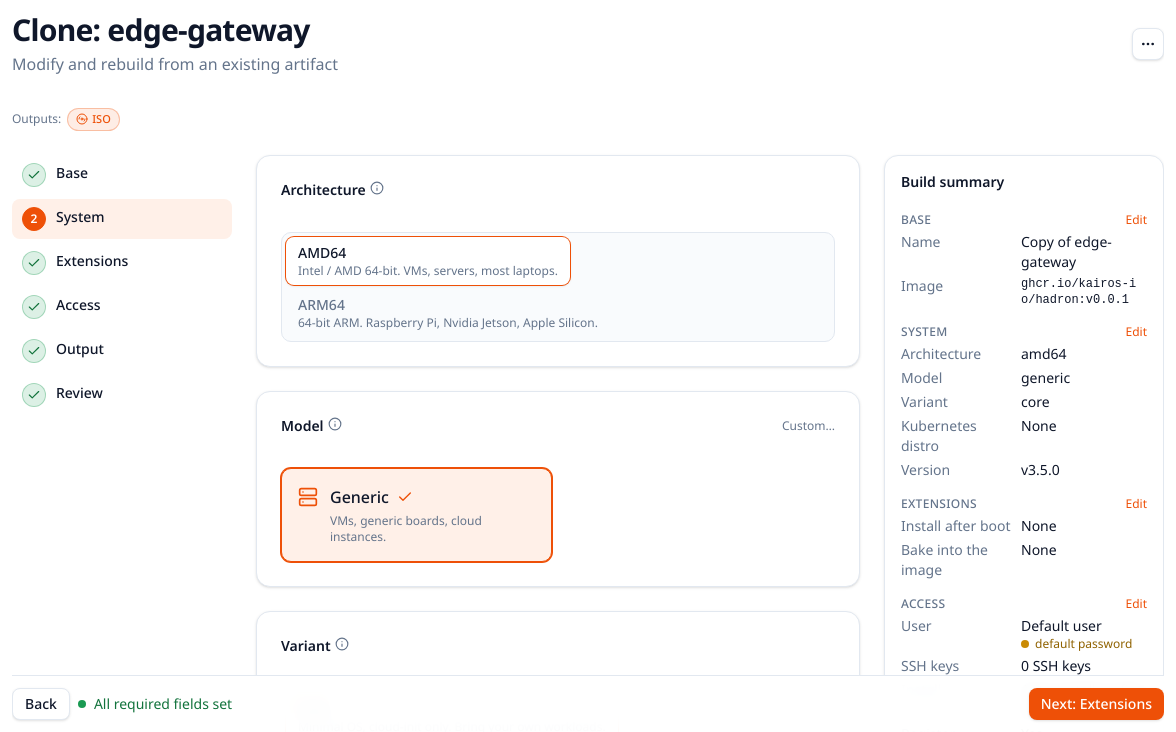
it: ArtifactBuilder: overlay of a Hadron clone › carries the overlay of the cloned Hadron artifact
Click the button "Output" at coordinates (122, 350), box [12,330,232,370]
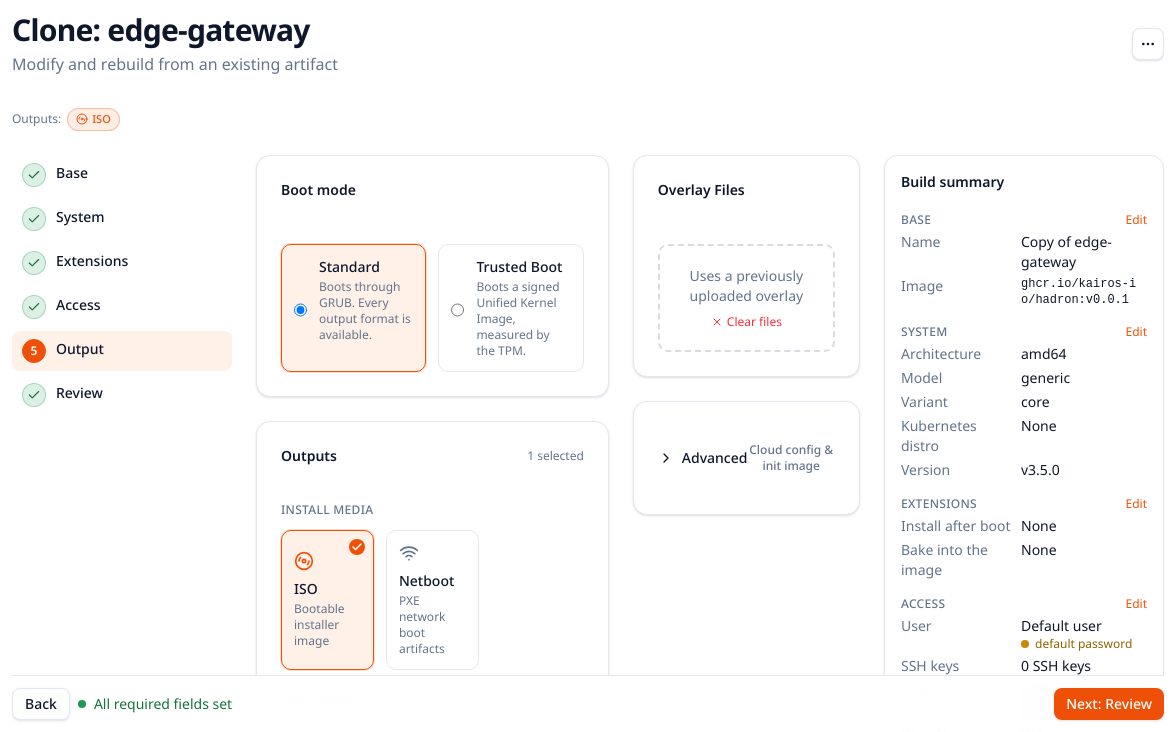
Expected: the element "Overlay Files" is shown, [633,154,860,376]
Expected: the text "Uses a previously uploaded overlay" is shown, [680,266,813,306]
